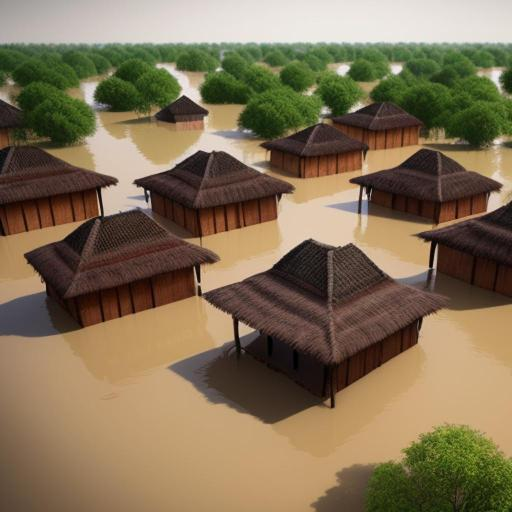flood: (0, 78, 512, 512), (162, 64, 204, 103), (352, 80, 380, 111), (478, 67, 506, 92), (0, 80, 20, 106), (328, 62, 353, 75), (256, 62, 282, 74), (391, 62, 405, 74), (305, 85, 316, 94)
house: (202, 234, 448, 412), (23, 208, 219, 340), (135, 146, 293, 251), (354, 140, 504, 232), (0, 137, 122, 237), (416, 196, 512, 304), (268, 121, 366, 183), (334, 98, 423, 158), (0, 97, 60, 149), (155, 90, 210, 130)
